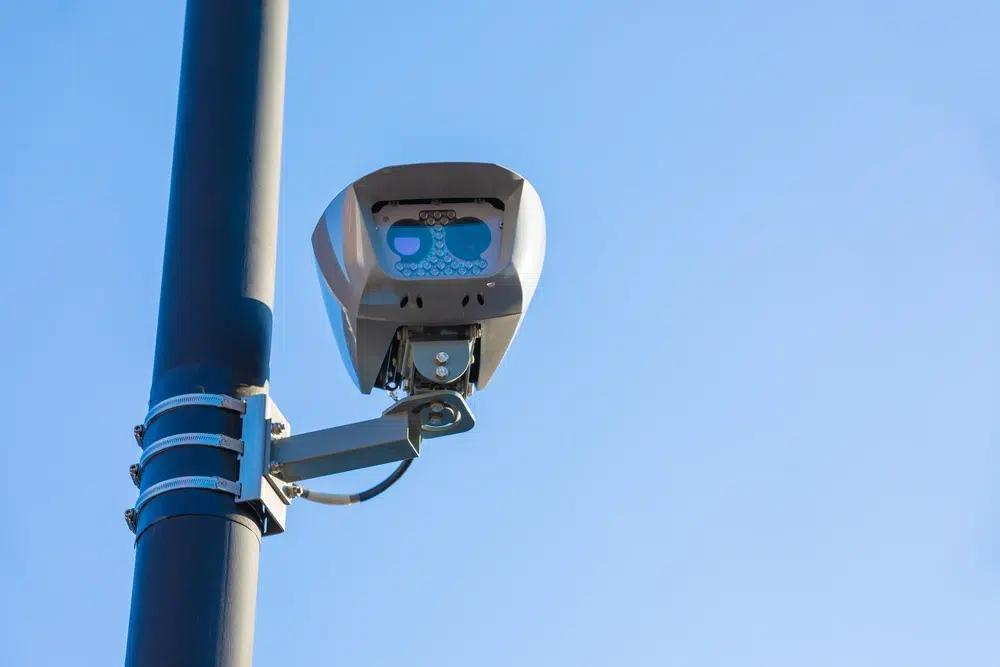Speed-Camera: (304, 141, 563, 406)
